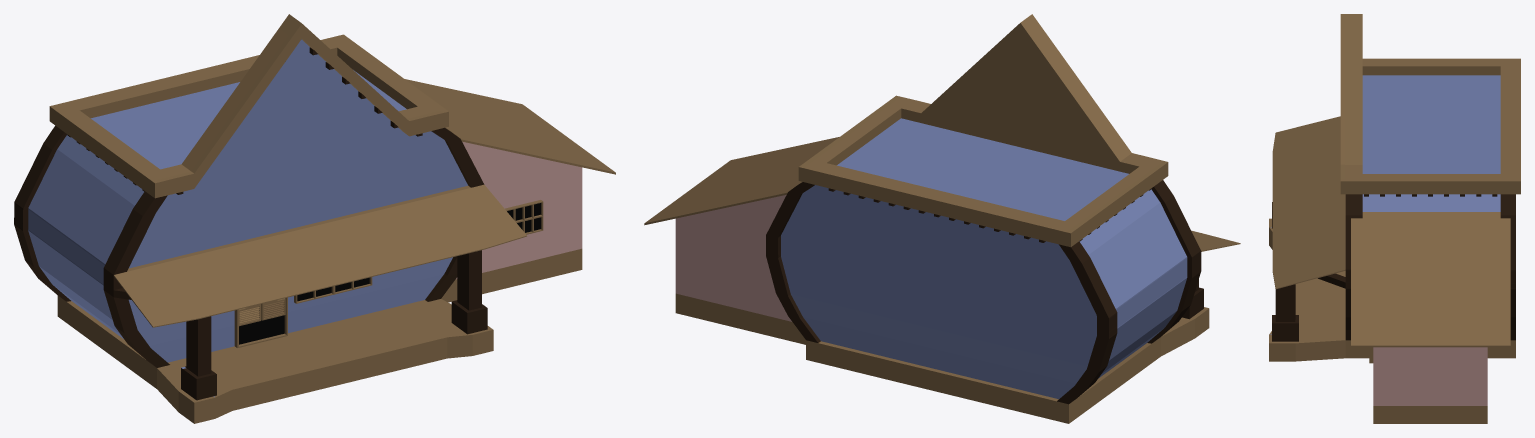
File: Sheriff.fbx
The picture shows the model from 3 angles, left to right: view 1: azimuth 30°, elevation 25°; view 2: azimuth 150°, elevation 25°; view 3: azimuth 270°, elevation 25°; orthographic projection. The views are drawn at different scales.
Visible parts, largest first — view 1: Cube, Cube.001, Plane, Cube.002; view 2: Cube, Cube.001; view 3: Cube, Cube.001.
Boxes of the visible parts, bbox=[...] form: Cube: bbox=[14, 14, 526, 423]; Cube.001: bbox=[405, 79, 615, 302]; Plane: bbox=[239, 315, 284, 344]; Cube.002: bbox=[234, 297, 287, 348]; Cube: bbox=[766, 14, 1240, 423]; Cube.001: bbox=[644, 137, 838, 344]; Cube: bbox=[1269, 14, 1520, 361]; Cube.001: bbox=[1351, 212, 1510, 423].
Bounding box in the file's own units: 4999 × 3141 × 2515.
